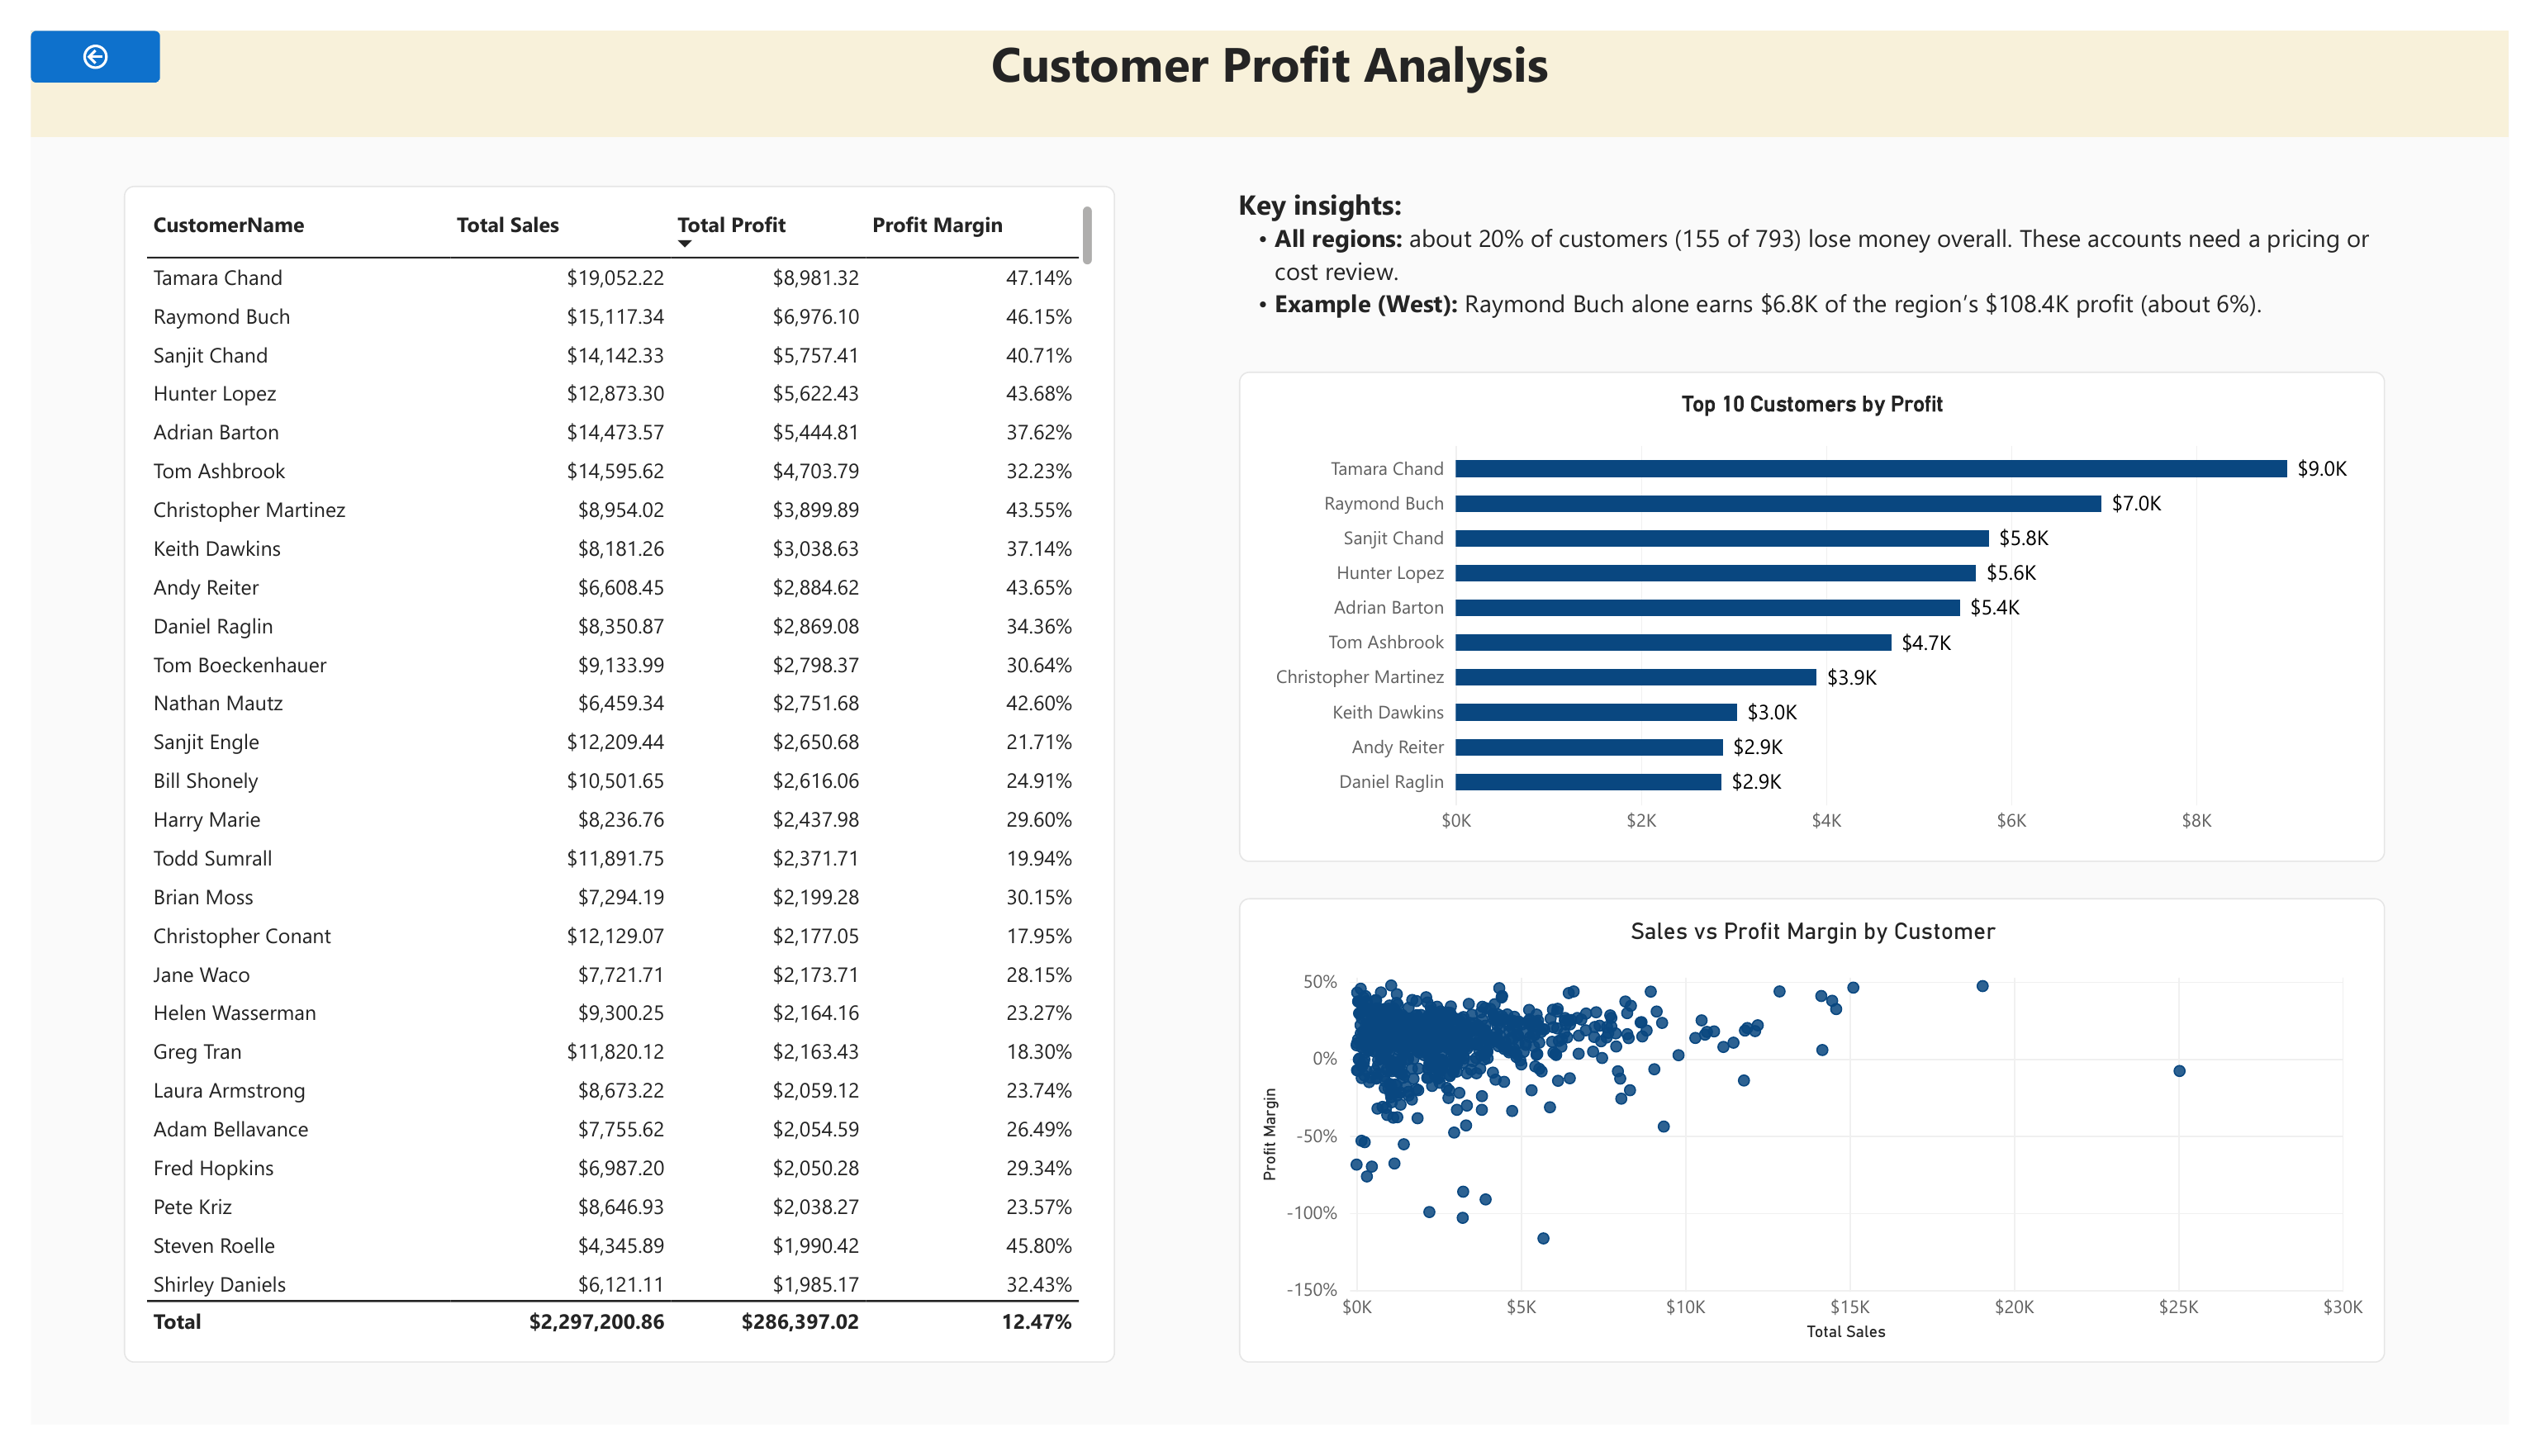

The page's visual inventory and layout, read from the dashboard file:
{"tool":"powerbi","page":{"name":"Customer","canvas":[1920,1080],"ordinal":7},"visuals":[{"type":"textbox","box":[0,0,1920.4,82.3],"z":0},{"type":"actionButton","box":[0,0,100,40],"z":1},{"type":"tableEx","fields":{"Values":["Superstore.CustomerName","Superstore.Total Sales","Superstore.Total Profit","Superstore.Profit Margin"]},"box":[72,120,768,912],"z":2},{"type":"clusteredBarChart","title":"Top 10 Customers by Profit","fields":{"Category":["Superstore.CustomerName"],"Y":["Superstore.Total Profit"]},"box":[936,264,888,380],"z":3},{"type":"scatterChart","title":"Sales vs Profit Margin by Customer","fields":{"Category":["Superstore.CustomerName"],"X":["Superstore.Total Sales"],"Y":["Superstore.Profit Margin"]},"box":[936,672,888,360],"z":4},{"type":"textbox","box":[840,930,1080,150],"z":5},{"type":"textbox","box":[936,120,888,144],"z":6}]}

Visuals, with their boxes on the page's 1920x1080 design canvas (x1, y1, x2, y2). These are canvas units, not pixel positions in the 2540x1456 screenshot, which may show the page scaled, cropped or inside an application window:
textbox: box(0, 0, 1920, 82)
actionButton: box(0, 0, 100, 40)
tableEx - Superstore.CustomerName x Superstore.Total Sales: box(72, 120, 840, 1032)
"Top 10 Customers by Profit" clusteredBarChart: box(936, 264, 1824, 644)
"Sales vs Profit Margin by Customer" scatterChart: box(936, 672, 1824, 1032)
textbox: box(840, 930, 1920, 1080)
textbox: box(936, 120, 1824, 264)
